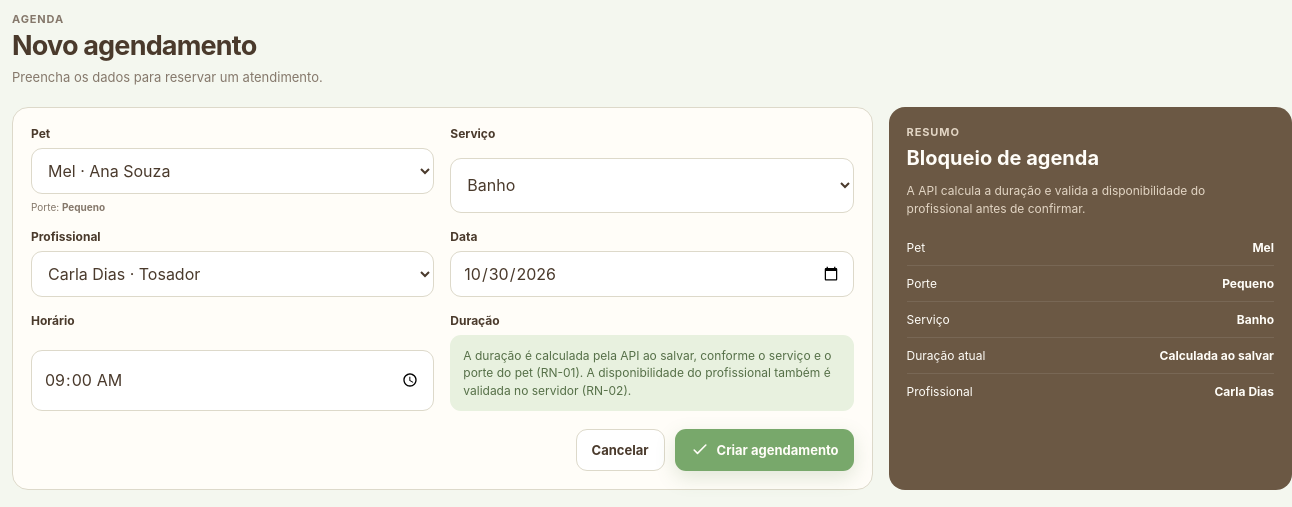
it: UI | NovoAgendamentoForm — Duração (RN-01 no backend) › não deve estimar a duração no cliente, mesmo para porte Grande
Select "Thor · Bruno Lima" in the dropdown labelled "Pet": (233, 171) [31,148,434,194]
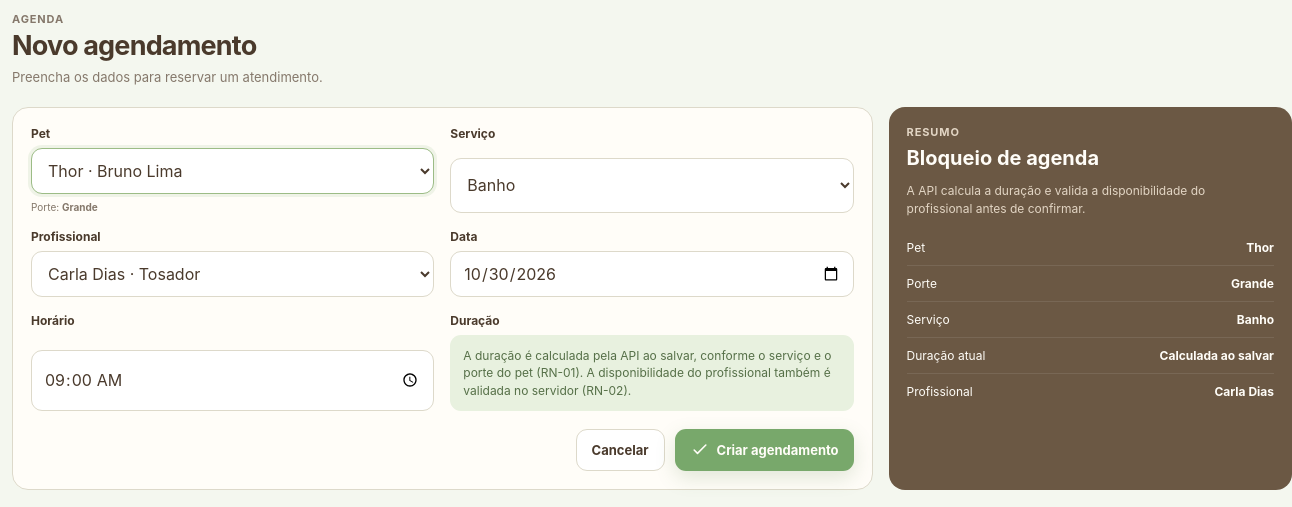
Expected: the element with class "summary-row" shows "Calculada ao salvar", [1160,348,1274,363]
Expected: the element with class "summary-row" shows "Grande", [1231,276,1274,291]
